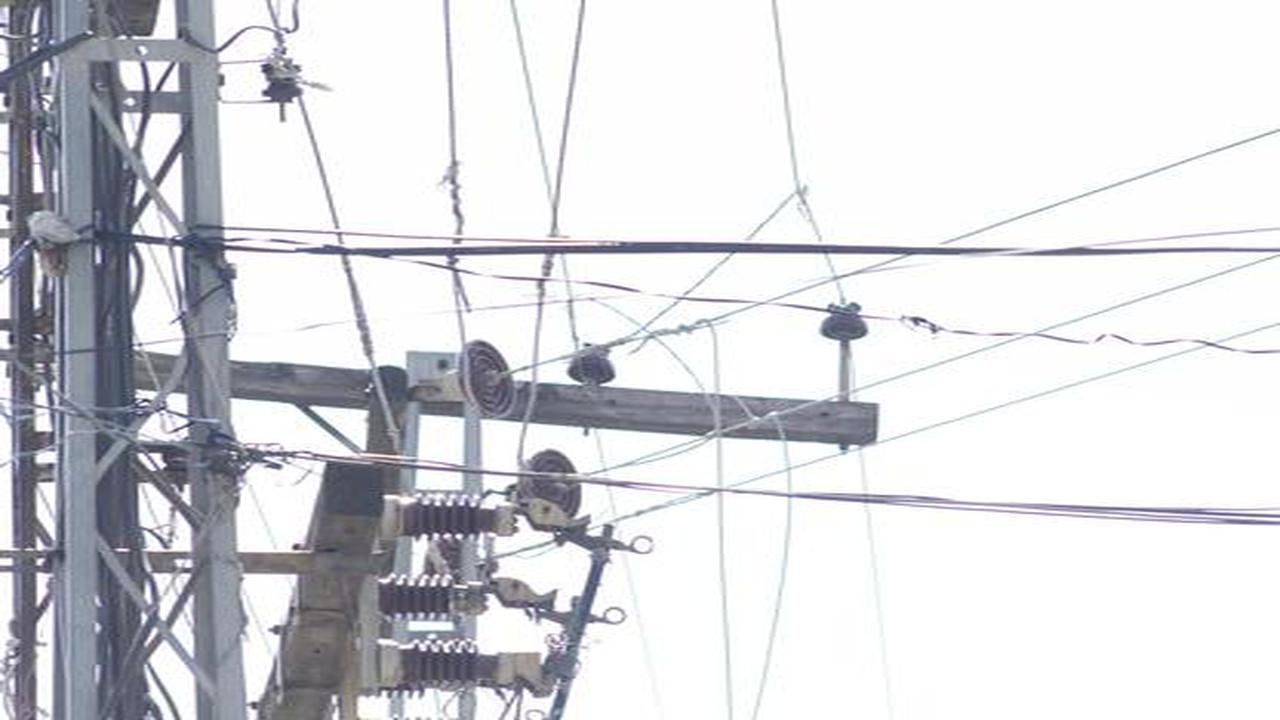insulator_disc: (445, 337, 517, 417), (512, 449, 584, 525)
insulator_pin: (815, 298, 872, 346), (566, 339, 618, 389)
